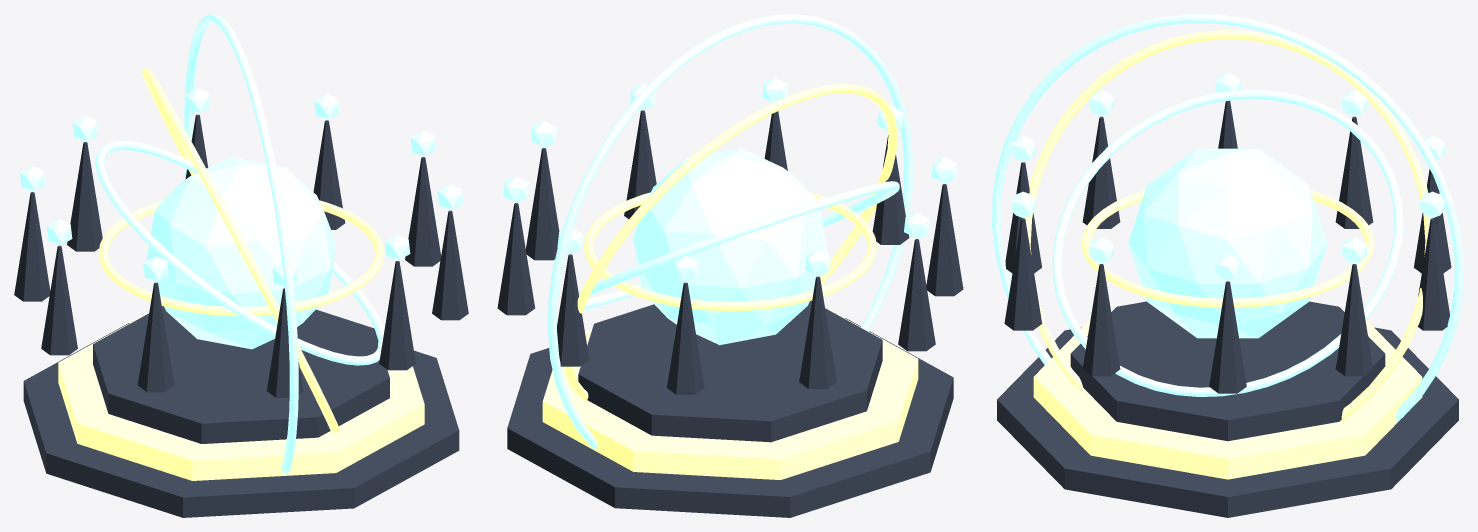
The model's file is gpu-blender-v41.glb.
3 renders of one model, left to right at view 1: azimuth 30°, elevation 25°; view 2: azimuth 150°, elevation 25°; view 3: azimuth 270°, elevation 25°, orthographic. The views are drawn at different scales.
Visible parts, largest first — view 1: Cylinder.002, SovereignCore_pod-smart-router, Cylinder, Cylinder.001, Torus.003, Torus.001, Torus, Torus.002, Cone.006, Cone.009, Cone.005, Cone.008 (+12 smaller); view 2: Cylinder.002, SovereignCore_pod-smart-router, Cylinder, Cylinder.001, Torus.003, Torus.002, Torus, Torus.001, Cone.005, Cone.001, Cone.006, Cone.003 (+12 smaller); view 3: SovereignCore_pod-smart-router, Cylinder.002, Cylinder, Cylinder.001, Torus.003, Torus.001, Torus.002, Torus, Cone.001, Cone.009, Cone, Cone.008 (+7 smaller).
Boxes of the visible parts, left/top/right/bottom form: Cylinder.002: left=93, top=306, right=389, bottom=443; SovereignCore_pod-smart-router: left=146, top=157, right=336, bottom=349; Cylinder: left=23, top=323, right=459, bottom=517; Cylinder.001: left=58, top=314, right=424, bottom=480; Torus.003: left=184, top=14, right=298, bottom=473; Torus.001: left=95, top=141, right=384, bottom=365; Torus: left=98, top=200, right=384, bottom=316; Torus.002: left=142, top=68, right=339, bottom=432; Cone.006: left=137, top=282, right=174, bottom=392; Cone.009: left=432, top=210, right=468, bottom=320; Cone.005: left=41, top=245, right=77, bottom=355; Cone.008: left=379, top=261, right=415, bottom=370; Cylinder.002: left=578, top=300, right=882, bottom=442; SovereignCore_pod-smart-router: left=633, top=148, right=827, bottom=345; Cylinder: left=507, top=318, right=953, bottom=517; Cylinder.001: left=542, top=308, right=918, bottom=479; Torus.003: left=547, top=14, right=913, bottom=449; Torus.002: left=564, top=83, right=897, bottom=400; Torus: left=584, top=192, right=876, bottom=311; Torus.001: left=578, top=181, right=899, bottom=309; Cone.005: left=898, top=239, right=935, bottom=351; Cone.001: left=497, top=203, right=535, bottom=315; Cone.006: left=926, top=184, right=963, bottom=296; Cone.003: left=667, top=282, right=704, bottom=394; SovereignCore_pod-smart-router: left=1128, top=148, right=1327, bottom=338; Cylinder.002: left=1070, top=301, right=1385, bottom=441; Cylinder: left=997, top=327, right=1458, bottom=517; Cylinder.001: left=1033, top=319, right=1422, bottom=479; Torus.003: left=992, top=14, right=1463, bottom=421; Torus.001: left=1052, top=89, right=1403, bottom=396; Torus.002: left=1024, top=30, right=1431, bottom=420; Torus: left=1081, top=190, right=1374, bottom=307; Cone.001: left=1335, top=264, right=1373, bottom=376; Cone.009: left=1082, top=264, right=1120, bottom=376; Cone: left=1209, top=281, right=1246, bottom=393; Cone.008: left=1004, top=218, right=1042, bottom=330.
Size of the model in its own units: 4.41 by 4.7 by 4.49.
